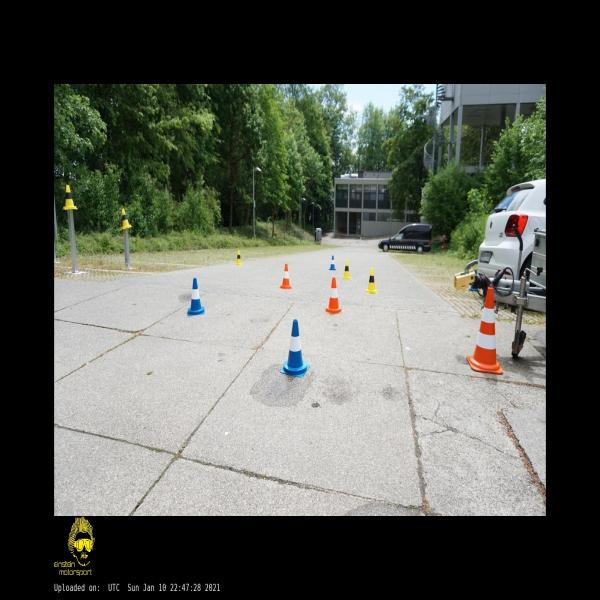blue_cone: (280, 320, 310, 378), (187, 277, 205, 316), (328, 255, 337, 271)
large_orange_cone: (467, 287, 503, 375)
orange_cone: (325, 276, 342, 314), (279, 264, 292, 290)
yellow_cone: (62, 185, 78, 209), (365, 268, 378, 294), (120, 209, 132, 230), (343, 260, 352, 280), (236, 250, 242, 265)
